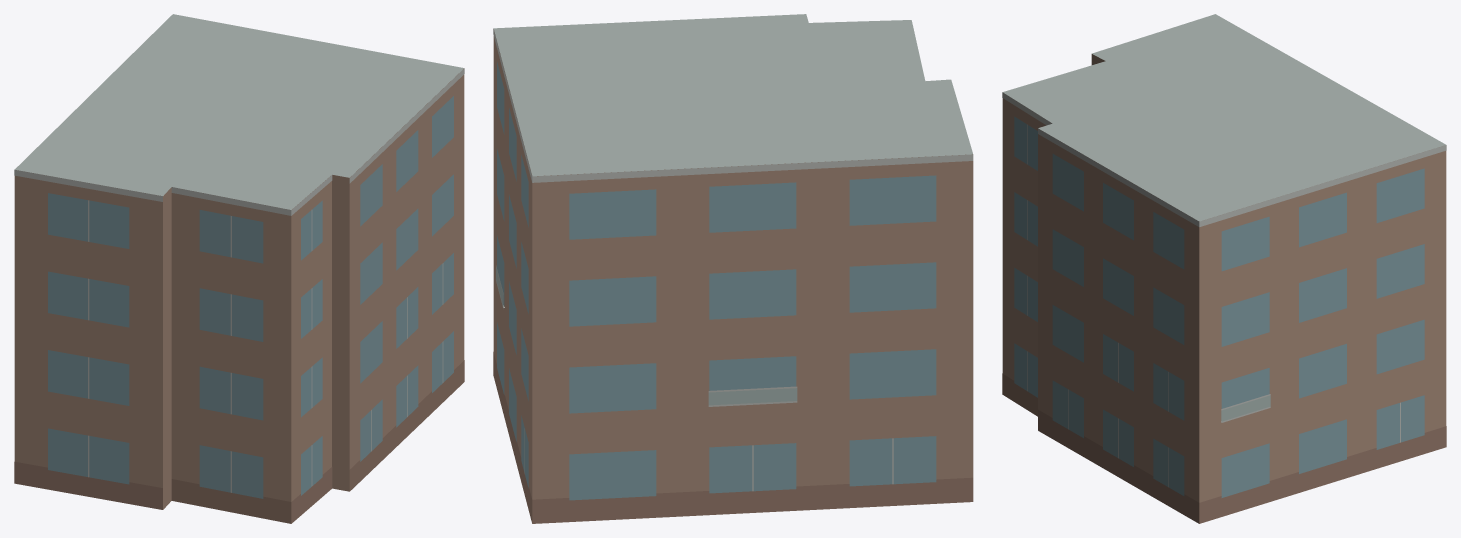
File: survey-upis-32659877.glb
The picture shows the model from 3 angles, left to right: view 1: azimuth 30°, elevation 25°; view 2: azimuth 150°, elevation 25°; view 3: azimuth 270°, elevation 25°; orthographic projection. The views are drawn at different scales.
Visible parts, largest first — view 1: survey-upis-32659877.tmp; view 2: survey-upis-32659877.tmp; view 3: survey-upis-32659877.tmp.
Part boxes in pixels (x1,y1,x2,y2): survey-upis-32659877.tmp: (14, 14, 464, 523); survey-upis-32659877.tmp: (493, 14, 973, 523); survey-upis-32659877.tmp: (1002, 14, 1446, 523).
Size of the model in its own units: 19.08 by 12.95 by 17.24.
